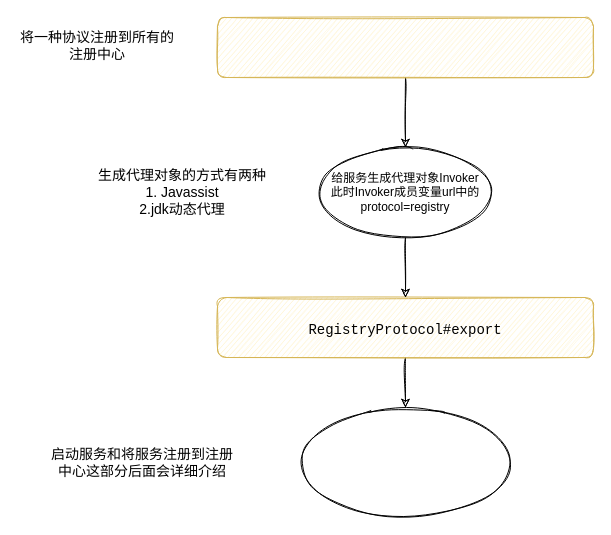
This 611x535 diagram has some shape labels left out. Here are the shapes that lost their labels. From the top down, the centre of each, then its label:
At point 405,47: "ServiceConfig#doExportUrlsFor1Protocol".
At point 405,462: "1. 启动服务 2. 将服务地址注册到注册中心 3. 将Invoker包装成Exporter返回".
